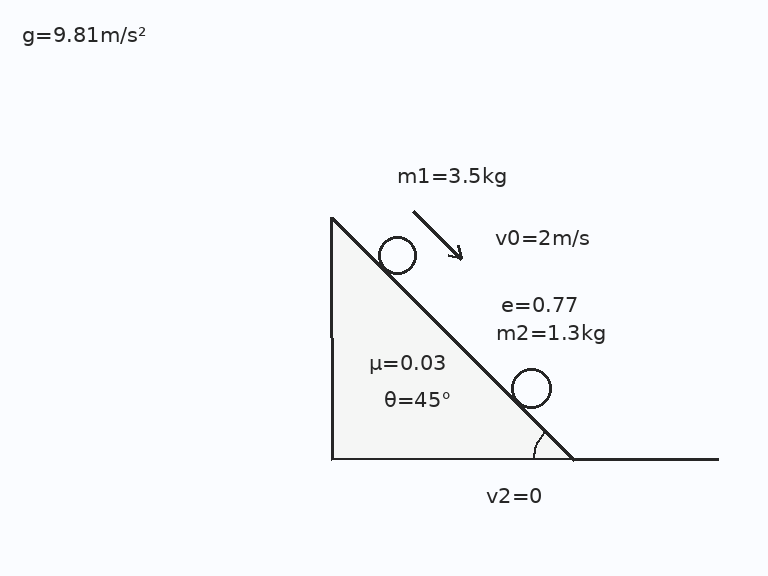ball: (509, 366, 553, 410), (376, 234, 418, 276)
ramp: (330, 215, 576, 461)
